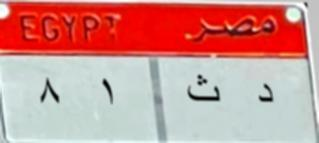1: (94, 75, 122, 109)
8: (34, 72, 63, 111)
daal: (253, 74, 277, 113)
thaa: (186, 71, 221, 109)
